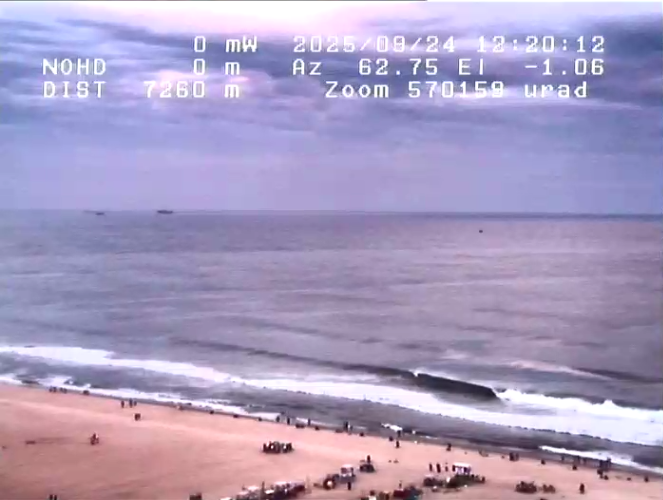TANKER: (153, 205, 179, 217)
